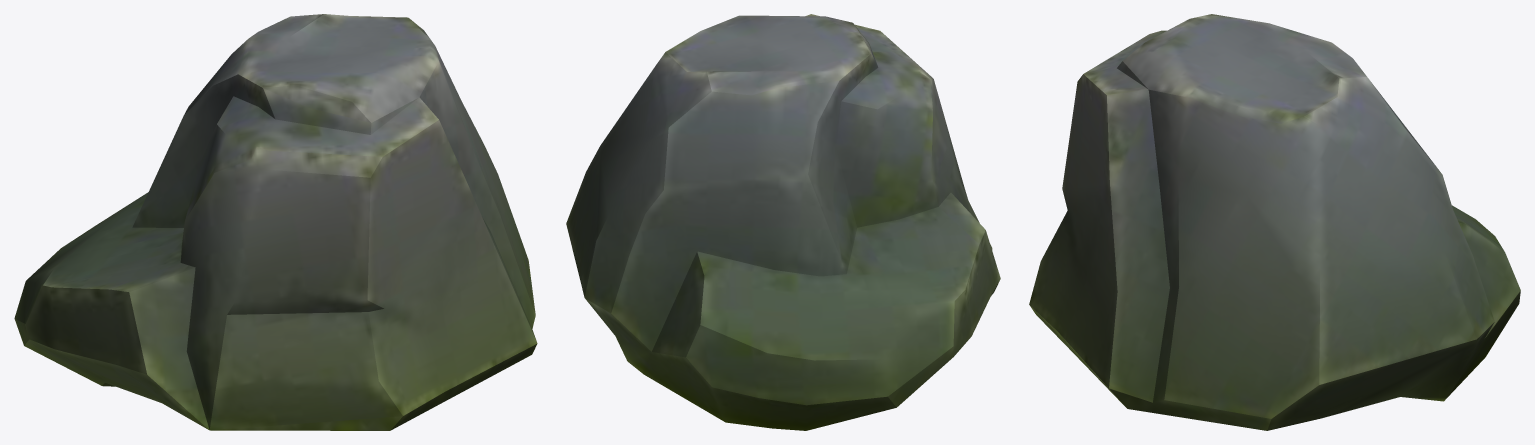
File: Rock_Medium_1.glb
3 views of the same model, side by side, from view 1: azimuth 30°, elevation 25°; view 2: azimuth 150°, elevation 25°; view 3: azimuth 270°, elevation 25° (orthographic). The views are drawn at different scales.
Bounding box in the file's own units: 3.23 × 2.26 × 2.99.
Materials: 1 (1 with a texture image).
